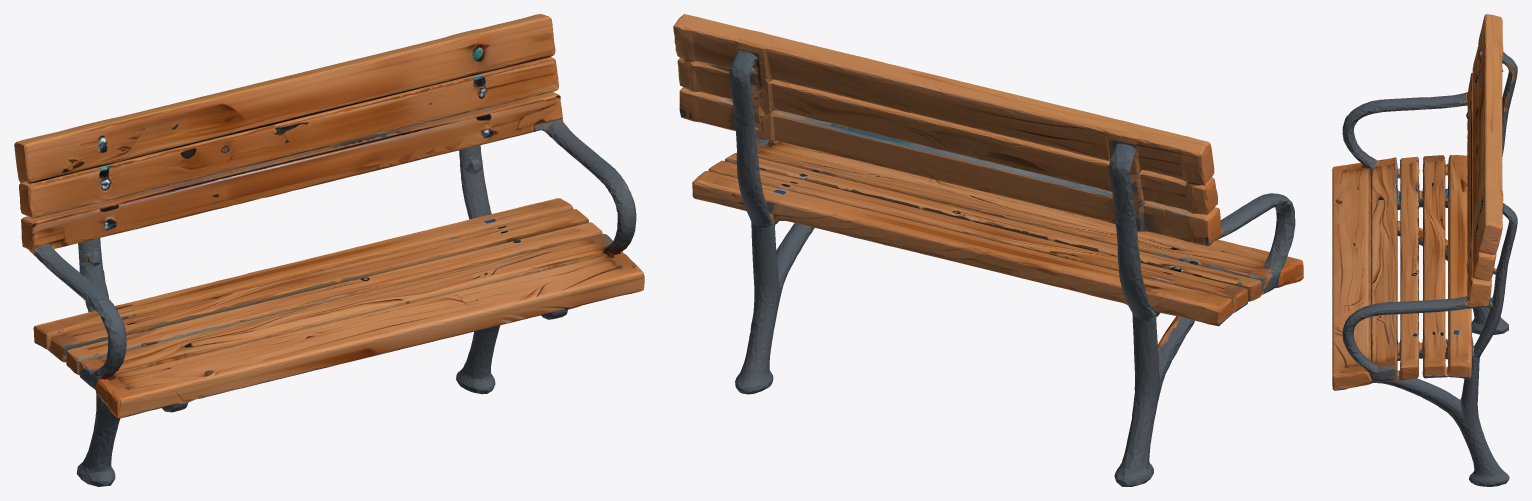
File: bench_001_001.glb
3 views of the same model, side by side, from view 1: azimuth 30°, elevation 25°; view 2: azimuth 150°, elevation 25°; view 3: azimuth 270°, elevation 25° (orthographic). The views are drawn at different scales.
Visible parts, largest first — view 1: world; view 2: world; view 3: world.
Boxes of the visible parts, left/top/right/bottom form: world: left=14, top=14, right=644, bottom=486; world: left=673, top=14, right=1303, bottom=486; world: left=1332, top=14, right=1517, bottom=486.
Bounding box in the file's own units: 1.99 × 1.27 × 0.7401.
1 material, 1 textured.
